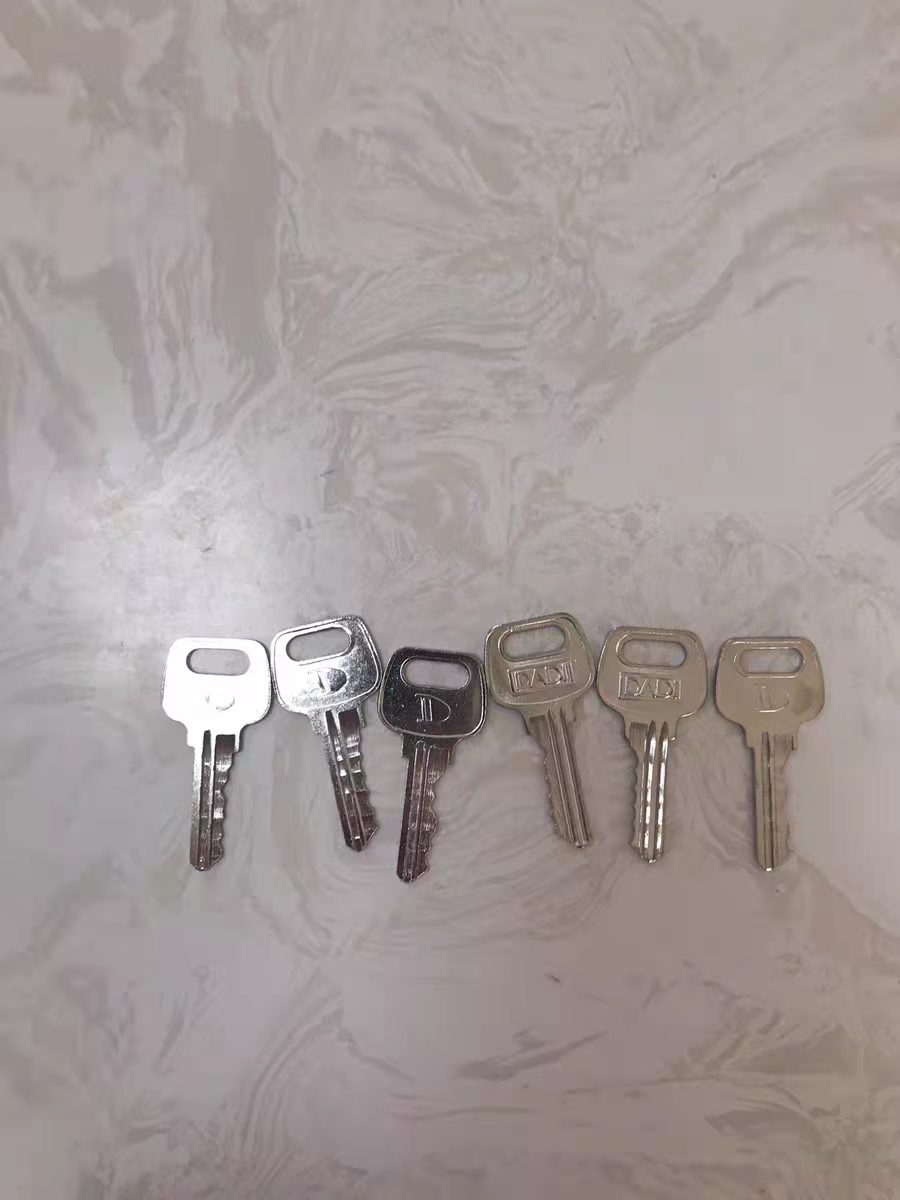key: (147, 622, 279, 876), (490, 609, 610, 852), (713, 622, 830, 861), (268, 631, 387, 858), (601, 625, 713, 863), (387, 643, 486, 888)
